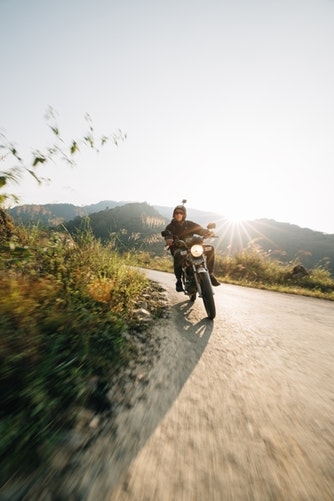helmet: (168, 201, 191, 221)
